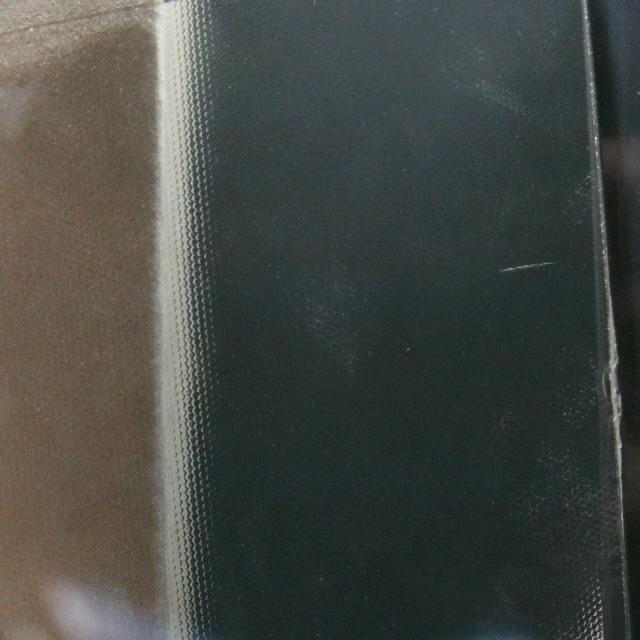edge_chip: (599, 285, 629, 475)
scratch: (492, 248, 566, 280)
